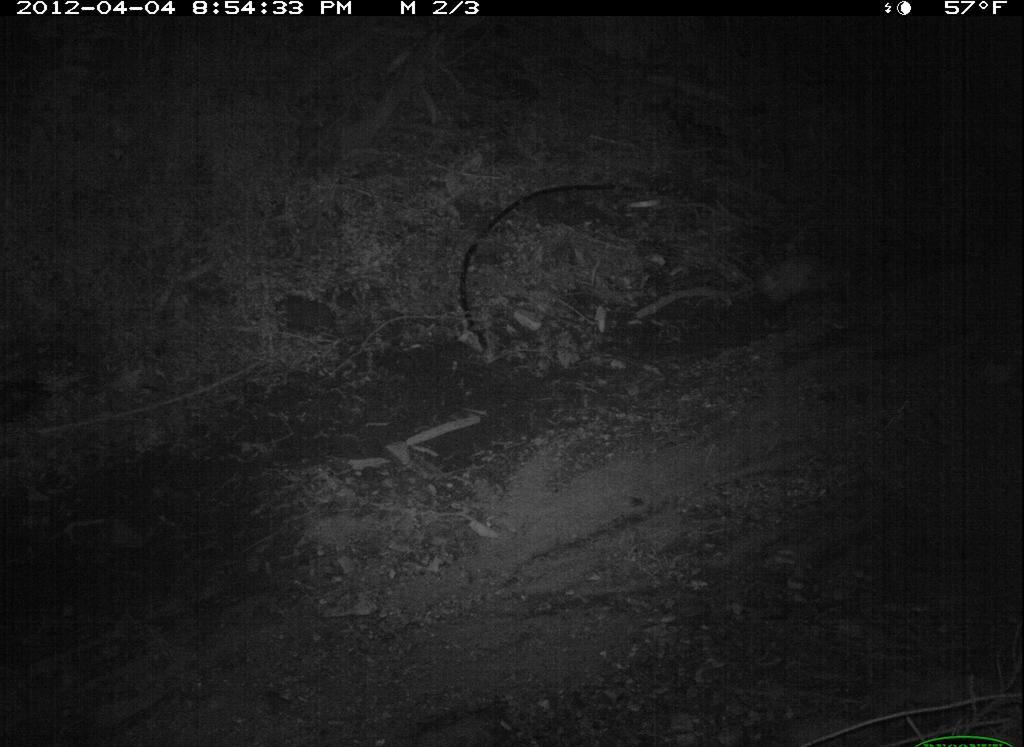opossum: (697, 239, 889, 337)
